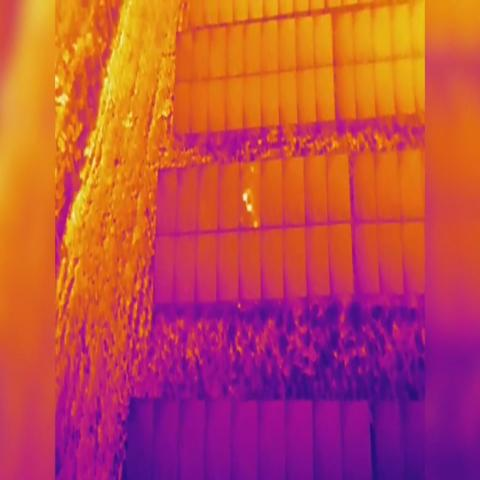fault: (252, 217, 259, 227), (247, 204, 253, 214), (241, 192, 247, 202)
